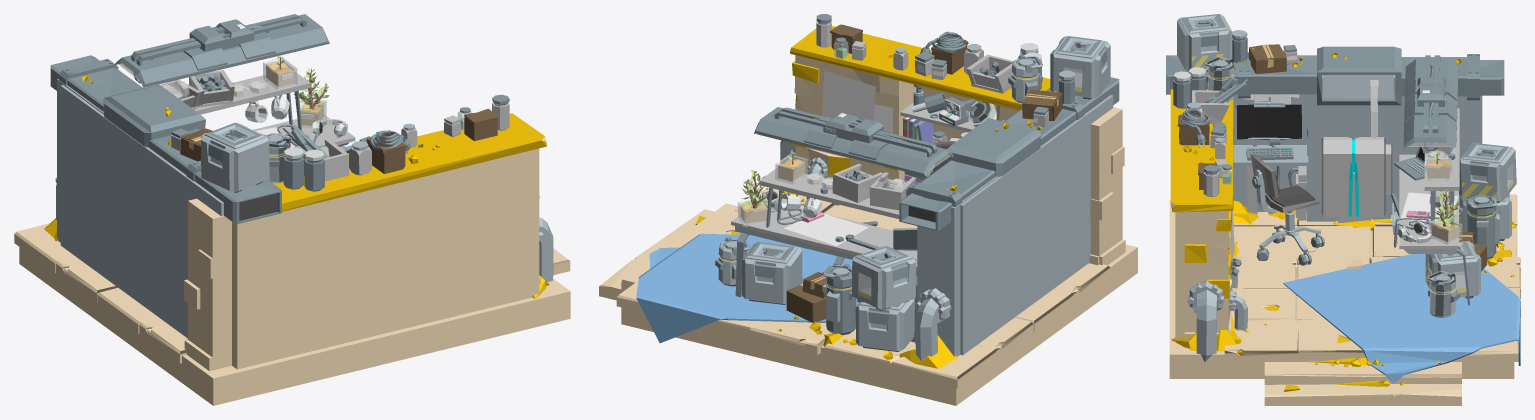
The model's file is room.f32b8df0.glb.
3 views of the same model, side by side, from view 1: azimuth 30°, elevation 25°; view 2: azimuth 150°, elevation 25°; view 3: azimuth 270°, elevation 25° (orthographic). The views are drawn at different scales.
Visible parts, largest first — view 1: group1763104299, group1100343911, group987980187, group286800131, group259666405, group337026695, group166672997, group61219957, group2022069560, group389696598, group101322500, group92703077 (+23 smaller); view 2: group1100343911, group1899386574, group987980187, group286800131, group259666405, group337026695, group1819965688, group177251386, group61219957, group707679182, group1482947389, group975002159 (+42 smaller); view 3: group1899386574, group177251386, group1451214769, group1024795164, group61219957, group286800131, group987980187, group1819965688, group954819432, group337026695, group1048239680, group1557021028 (+52 smaller).
Part boxes in pixels (x1,y1,x2,y2): group1763104299: (232, 148, 539, 369); group1100343911: (60, 85, 223, 338); group987980187: (19, 247, 570, 405); group286800131: (114, 14, 329, 87); group259666405: (184, 198, 231, 370); group337026695: (273, 113, 546, 211); group166672997: (201, 122, 269, 192); group61219957: (103, 84, 205, 147); group2022069560: (194, 171, 281, 224); group389696598: (59, 58, 143, 111); group101322500: (14, 223, 75, 272); group92703077: (195, 72, 310, 114); group1100343911: (960, 95, 1113, 355); group1899386574: (636, 233, 858, 343); group987980187: (621, 244, 1137, 405); group286800131: (754, 107, 953, 176); group259666405: (996, 105, 1125, 265); group337026695: (790, 26, 1050, 110); group1819965688: (791, 55, 916, 181); group177251386: (917, 145, 1040, 356); group61219957: (945, 118, 1040, 176); group707679182: (852, 246, 916, 310); group1482947389: (742, 242, 802, 304); group975002159: (731, 201, 917, 275); group1899386574: (1283, 254, 1520, 383); group177251386: (1307, 75, 1482, 221); group1451214769: (1321, 137, 1392, 220); group1024795164: (1231, 257, 1397, 320); group61219957: (1317, 46, 1401, 105); group286800131: (1403, 55, 1458, 150); group987980187: (1169, 199, 1514, 378); group1819965688: (1184, 211, 1232, 339); group954819432: (1264, 384, 1461, 405); group337026695: (1170, 89, 1233, 212); group1048239680: (1233, 101, 1308, 165); group1557021028: (1264, 362, 1461, 384).
Size of the model in its own units: 3.66 by 2.15 by 3.06.
